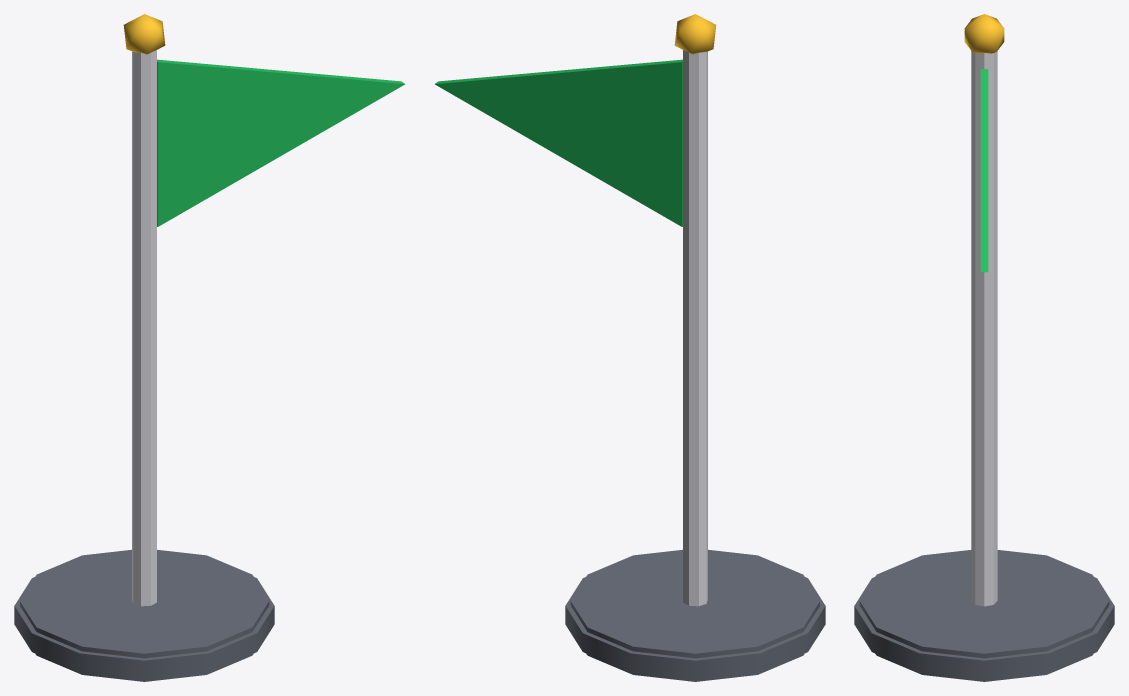
File: checkpoint_flag.glb
The picture shows the model from 3 angles, left to right: view 1: azimuth 30°, elevation 25°; view 2: azimuth 150°, elevation 25°; view 3: azimuth 270°, elevation 25°; orthographic projection.
Parts seen in each view (by area): view 1: checkpoint_flag; view 2: checkpoint_flag; view 3: checkpoint_flag.
Part boxes in pixels (bbox=[...]): checkpoint_flag: bbox=[14, 14, 404, 681]; checkpoint_flag: bbox=[435, 14, 825, 681]; checkpoint_flag: bbox=[854, 14, 1114, 681].
Size of the model in its own units: 1.65 by 2.61 by 1.
